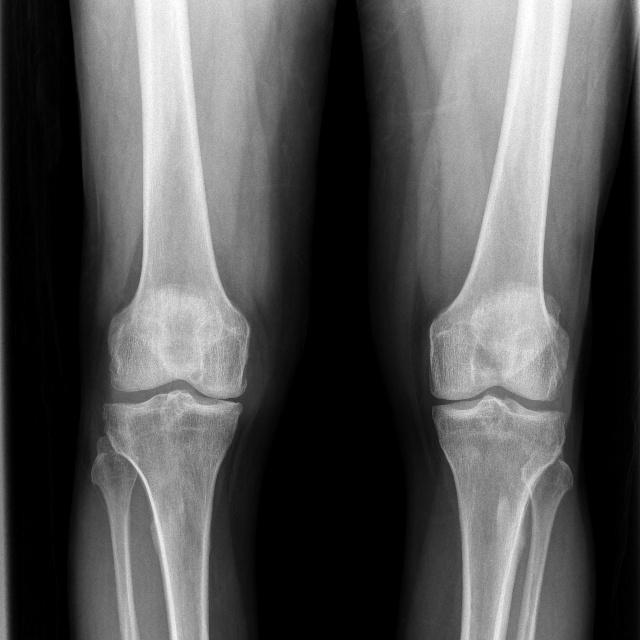Knee: (101, 323, 252, 456), (423, 330, 569, 459)
